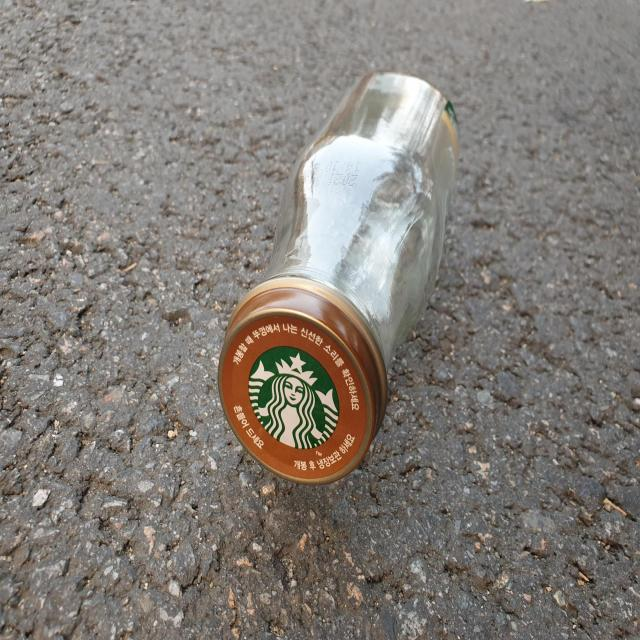glass: (218, 72, 458, 485)
